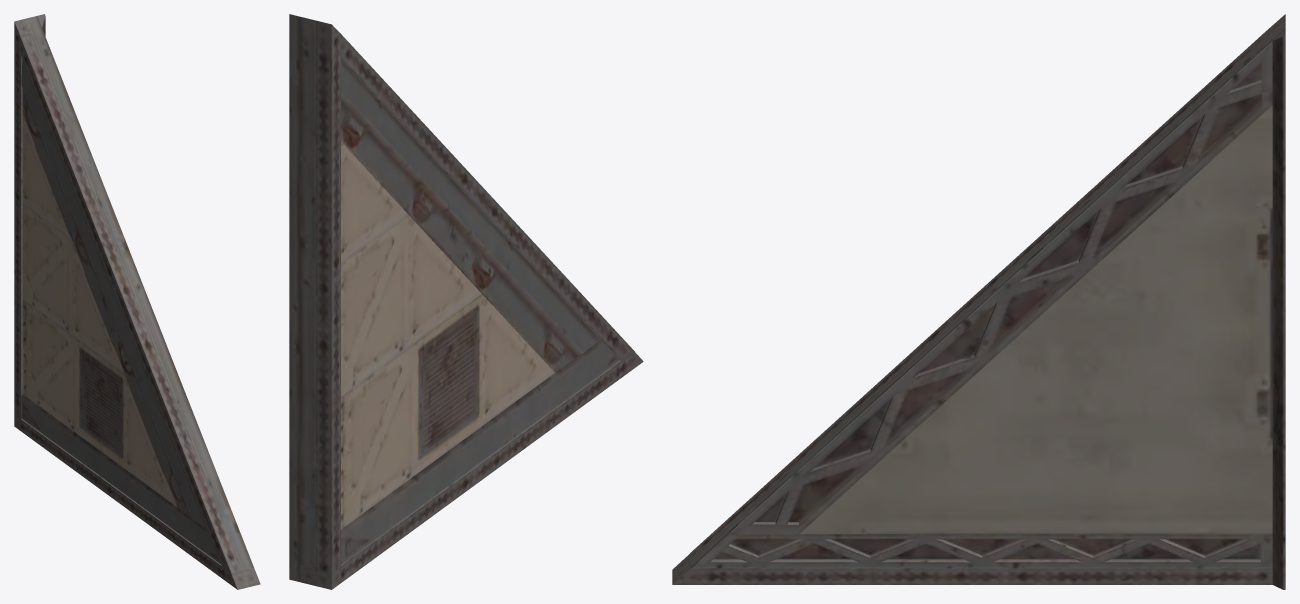
Rendered from wall.spacestation.left.glb.
3 renders of one model, left to right at view 1: azimuth 30°, elevation 25°; view 2: azimuth 150°, elevation 25°; view 3: azimuth 270°, elevation 25°, orthographic. The views are drawn at different scales.
Visible parts, largest first — view 1: model; view 2: model; view 3: model.
Part boxes in pixels (bbox=[...]): model: bbox=[14, 14, 260, 589]; model: bbox=[289, 14, 643, 589]; model: bbox=[672, 14, 1285, 589].
Size of the model in its own units: 0.2503 by 3 by 3.
Materials: 1 (1 with a texture image).
